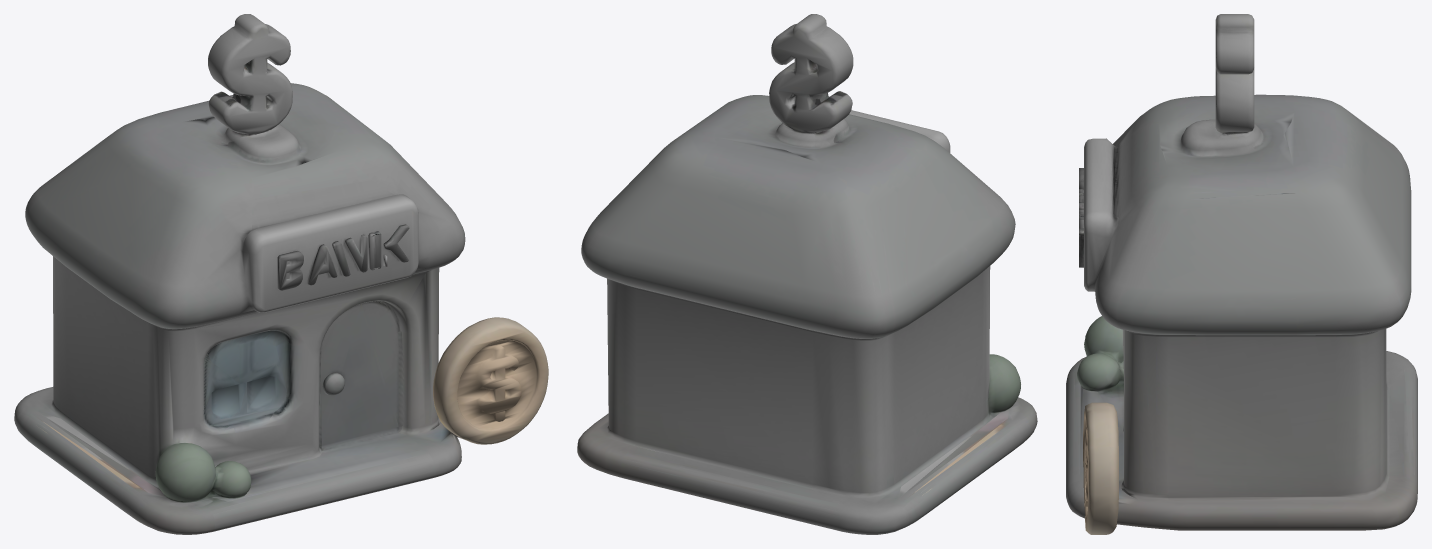
Rendered from bank.glb.
3 views of the same model, side by side, from view 1: azimuth 30°, elevation 25°; view 2: azimuth 150°, elevation 25°; view 3: azimuth 270°, elevation 25° (orthographic). The views are drawn at different scales.
Parts seen in each view (by area): view 1: tripo_node_c34e1c5f; view 2: tripo_node_c34e1c5f; view 3: tripo_node_c34e1c5f.
Part boxes in pixels (box(x1,y1,x2,y2)): tripo_node_c34e1c5f: box(14, 14, 548, 534); tripo_node_c34e1c5f: box(577, 14, 1037, 534); tripo_node_c34e1c5f: box(1066, 14, 1417, 534).
Size of the model in its own units: 0.9681 by 1 by 0.7245.
Materials: 1 (1 with a texture image).
